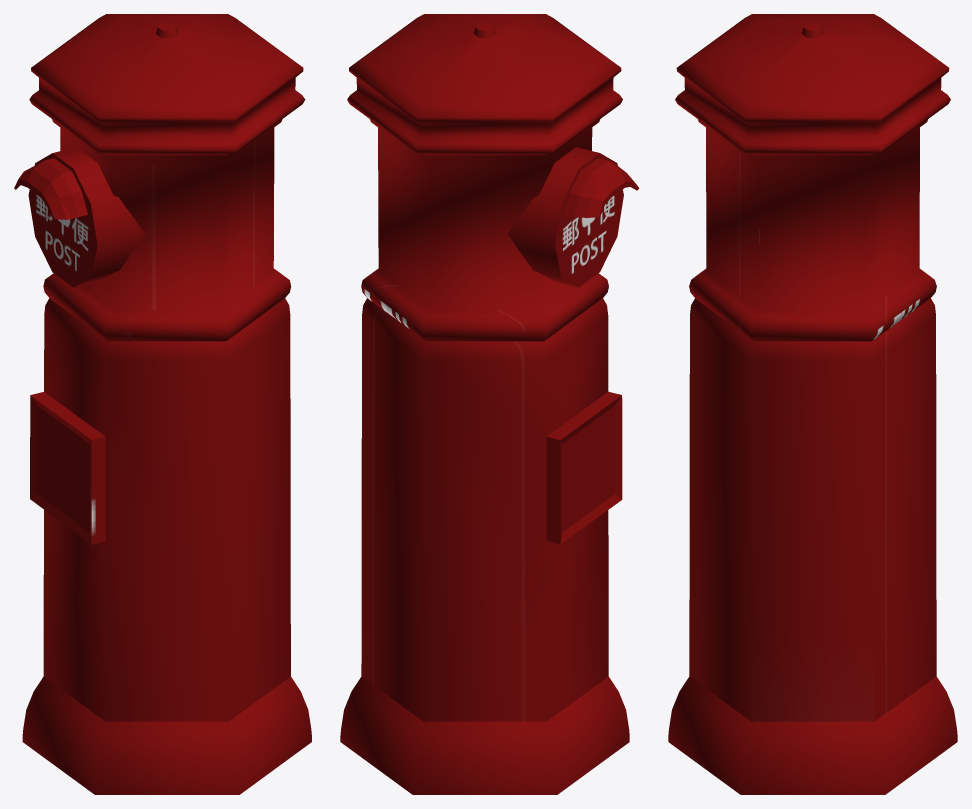
Rendered from post.FBX.
3 views of the same model, side by side, from view 1: azimuth 30°, elevation 25°; view 2: azimuth 150°, elevation 25°; view 3: azimuth 270°, elevation 25° (orthographic).
Parts seen in each view (by area): view 1: Line001; view 2: Line001; view 3: Line001.
Part boxes in pixels (x1,y1,x2,y2): Line001: (14,14,311,794); Line001: (340,14,639,794); Line001: (668,14,957,794).
Bounding box in the file's own units: 121 × 343 × 126.
Materials: 1 (1 with a texture image).
